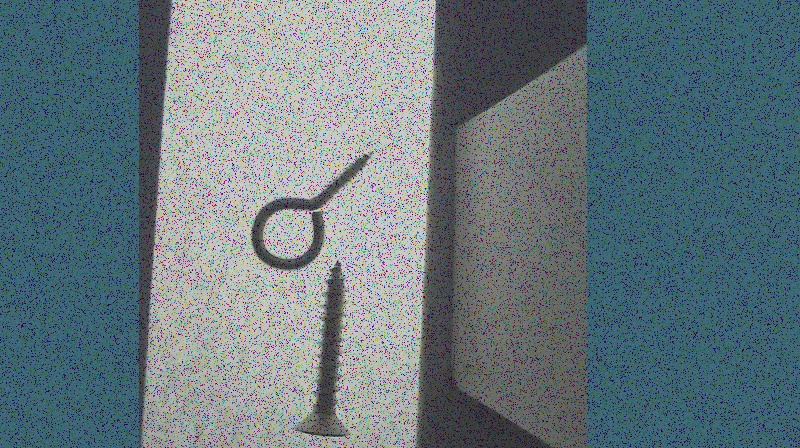O001: (249, 150, 373, 270)
S001: (292, 258, 350, 438)
